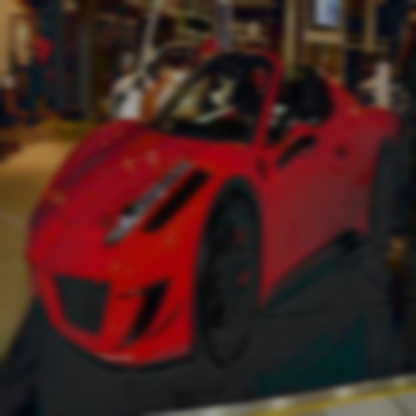Vehicle: (25, 44, 400, 372)
